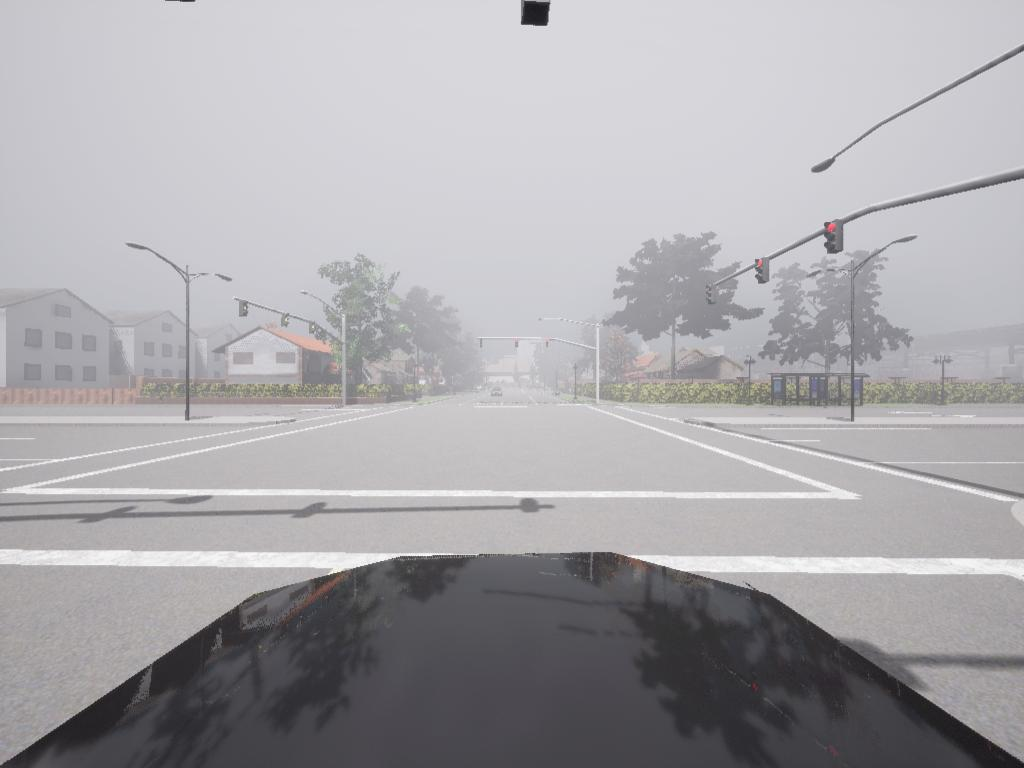traffic_light: (523, 3, 553, 28), (824, 222, 842, 255), (756, 260, 770, 286), (706, 283, 719, 306), (240, 299, 251, 318), (309, 321, 319, 336), (283, 313, 291, 330), (515, 339, 521, 350), (546, 338, 550, 351), (480, 339, 484, 351)
